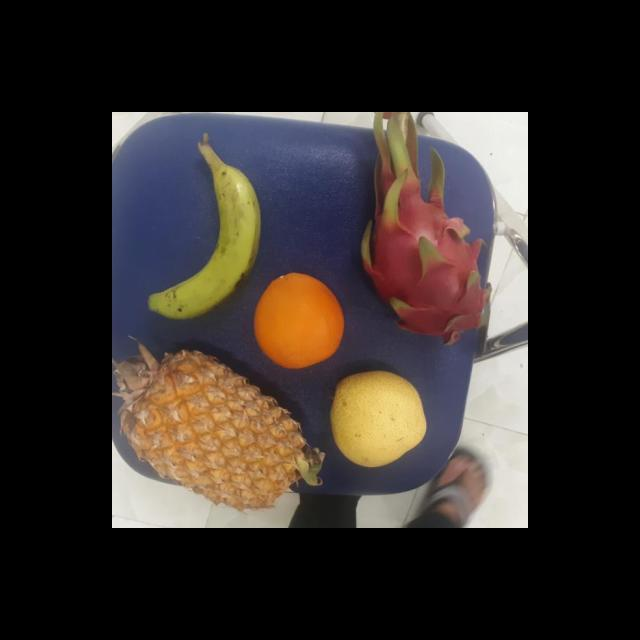banana: (145, 144, 260, 320)
orange: (249, 271, 346, 372)
pear: (327, 366, 432, 466)
pineapple: (112, 345, 314, 508)
pitaya: (354, 144, 494, 346)
